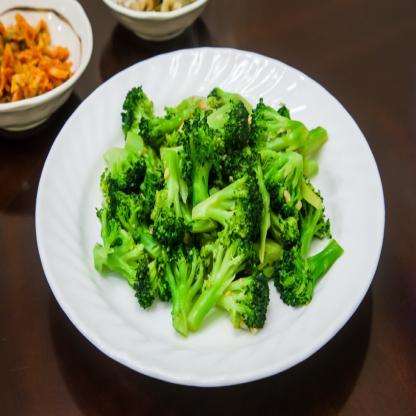broccoli: (88, 81, 347, 338)
